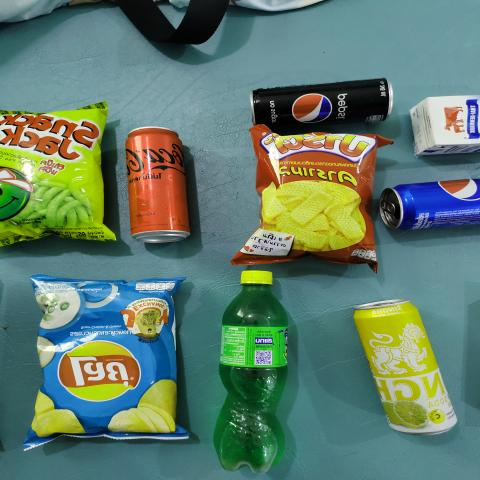coke_red: (126, 132, 176, 242)
fanta_green: (219, 270, 278, 470)
party_red: (257, 138, 367, 266)
pepsi_black: (256, 76, 393, 125)
pepsi_blue: (378, 172, 480, 230)
singha_yellow: (348, 299, 464, 440)
snack_jack: (0, 114, 110, 237)
thai_denmark: (415, 96, 480, 160)
